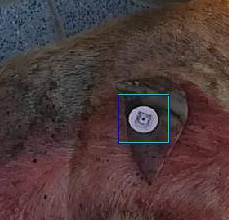text: (118, 94, 168, 142)
